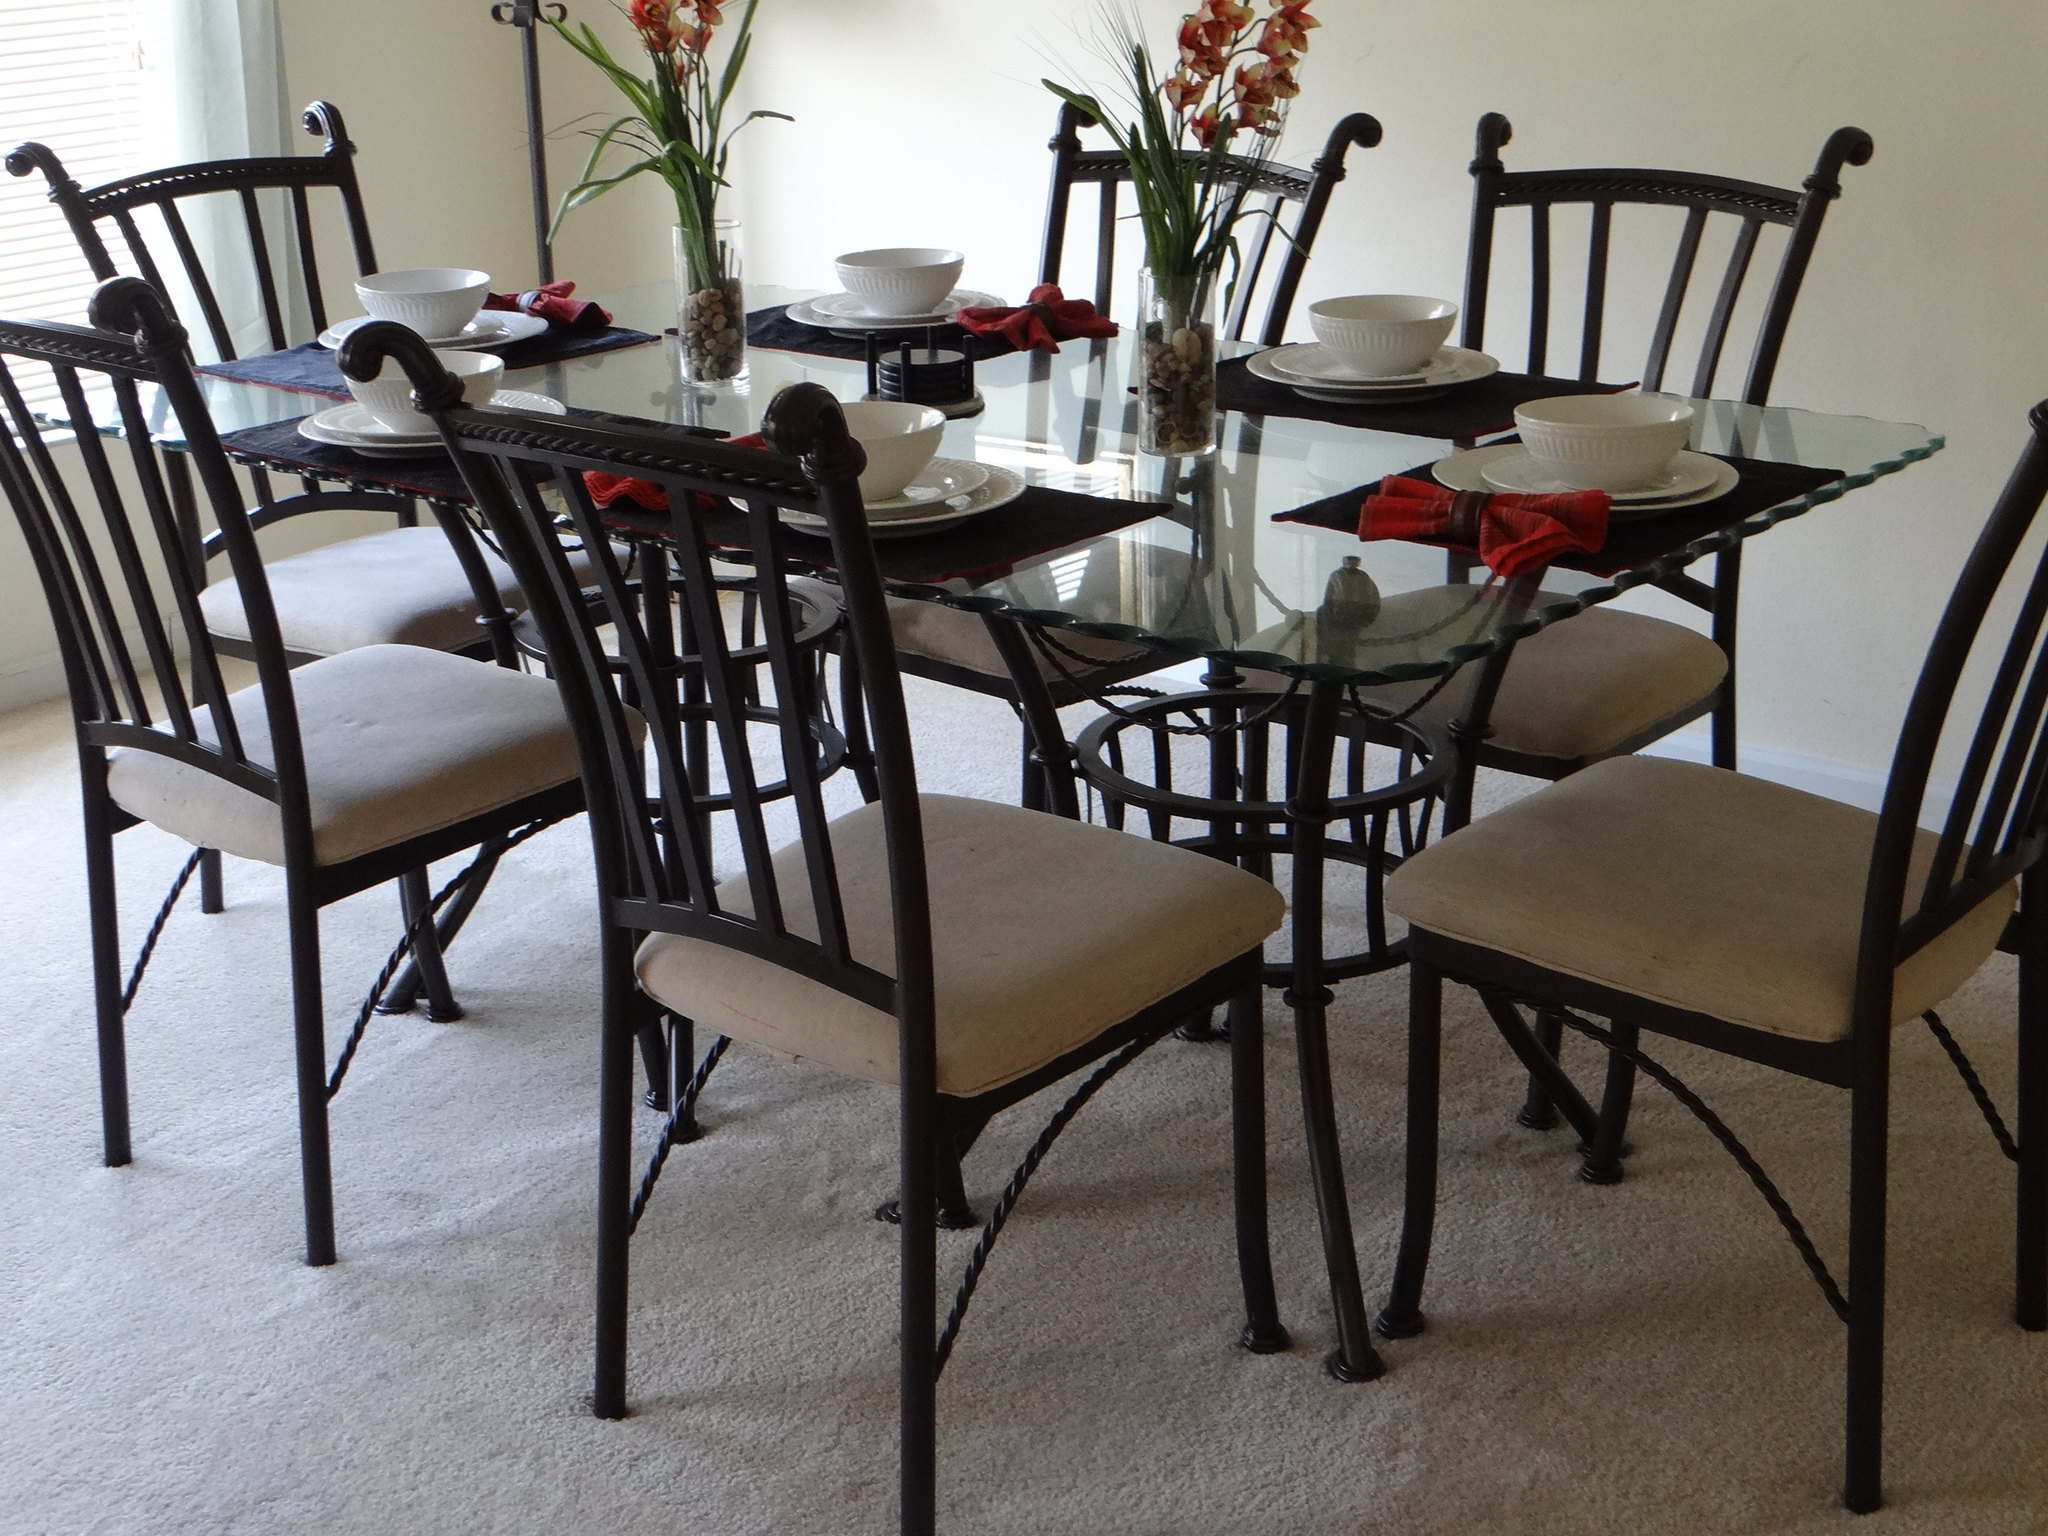chair: (343, 310, 1401, 1396), (1447, 390, 2037, 1512), (2, 302, 635, 1294)
dining table: (105, 257, 1696, 1329)
